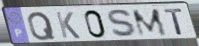0: (83, 9, 108, 40)
K: (54, 11, 82, 40)
M: (130, 7, 169, 38)
Q: (27, 11, 58, 42)
S: (106, 8, 141, 39)
T: (163, 8, 185, 36)
